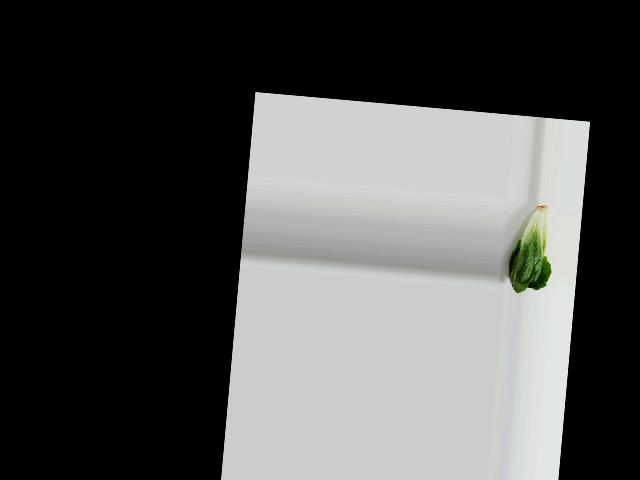lettuce: (504, 198, 558, 296)
